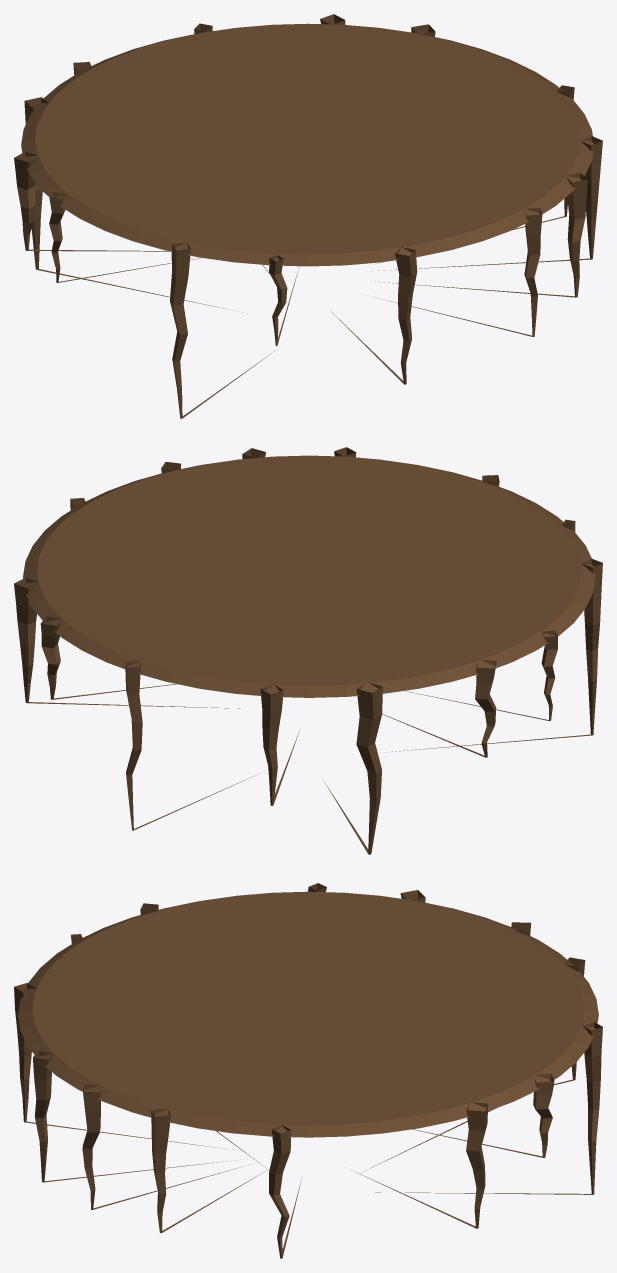
Rendered from drip_chocolate.glb.
3 views of the same model, one above another, from view 1: azimuth 30°, elevation 25°; view 2: azimuth 150°, elevation 25°; view 3: azimuth 270°, elevation 25° (orthographic).
Visible parts, largest first — view 1: drip_chocolate; view 2: drip_chocolate; view 3: drip_chocolate.
Boxes of the visible parts, bbox=[...] form: drip_chocolate: bbox=[14, 14, 602, 418]; drip_chocolate: bbox=[14, 447, 602, 854]; drip_chocolate: bbox=[14, 883, 602, 1258].
Size of the model in its own units: 20.72 by 7.23 by 20.58.
